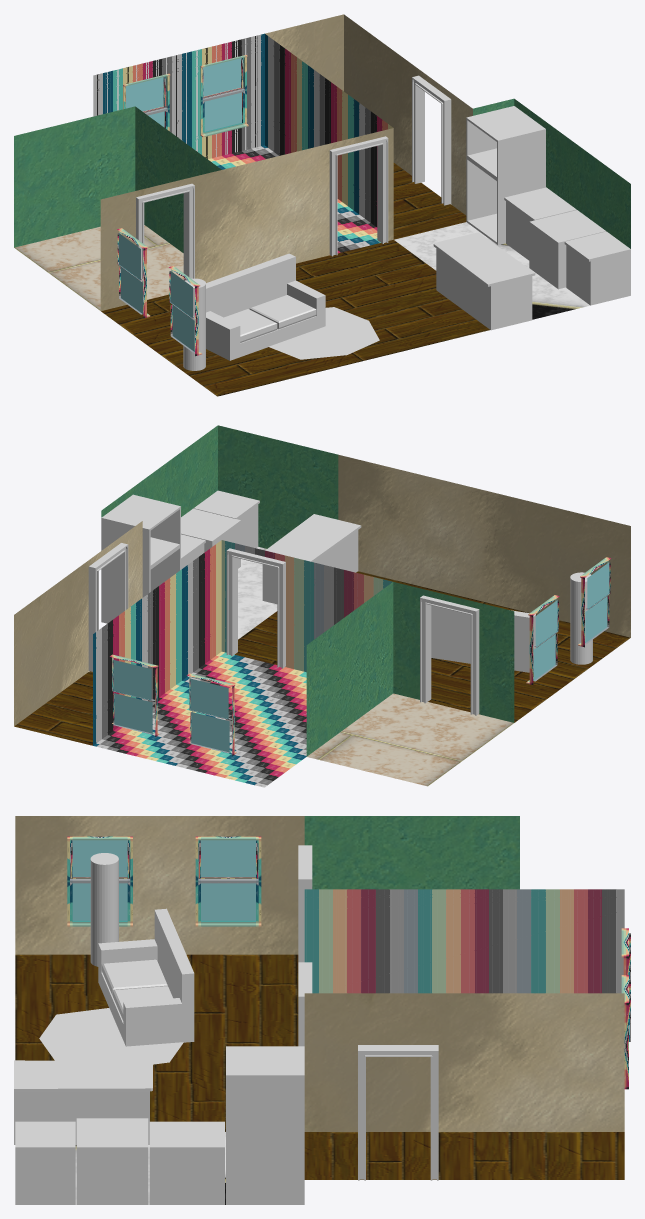
File: Apartment.glb
3 renders of one model, top to bottom at view 1: azimuth 30°, elevation 25°; view 2: azimuth 150°, elevation 25°; view 3: azimuth 270°, elevation 25°, orthographic. The views are drawn at different scales.
Parts seen in each view (by area): view 1: LivingRoom, Bathroom, Bedroom, Hall, Kitchen, Couch, fridge base, Island, right counter, window.004, stove, carpet (+8 smaller); view 2: LivingRoom, Bedroom, Bathroom, Kitchen, Hall, fridge base, Island, Couch, window.003, window.004, door_frame.001, door_frame (+7 smaller); view 3: Hall, LivingRoom, Bedroom, Bathroom, fridge base, Couch, Island, left counter, stove, window.002, right counter, carpet (+6 smaller).
Part boxes in pixels (x1=…): LivingRoom: x1=100, y1=128, x2=489, y2=396; Bathroom: x1=14, y1=106, x2=221, y2=310; Bedroom: x1=93, y1=33, x2=393, y2=253; Hall: x1=265, y1=14, x2=472, y2=239; Kitchen: x1=394, y1=98, x2=630, y2=319; Couch: x1=206, y1=253, x2=325, y2=360; fridge base: x1=466, y1=106, x2=545, y2=245; Island: x1=433, y1=232, x2=535, y2=330; right counter: x1=564, y1=231, x2=630, y2=305; window.004: x1=200, y1=55, x2=248, y2=137; stove: x1=529, y1=210, x2=606, y2=289; carpet: x1=268, y1=307, x2=379, y2=359; LivingRoom: x1=235, y1=454, x2=630, y2=722; Bedroom: x1=93, y1=540, x2=392, y2=787; Bathroom: x1=306, y1=582, x2=514, y2=786; Kitchen: x1=101, y1=425, x2=338, y2=639; Hall: x1=14, y1=521, x2=142, y2=745; fridge base: x1=101, y1=494, x2=180, y2=623; Island: x1=262, y1=514, x2=361, y2=604; Couch: x1=431, y1=605, x2=536, y2=672; window.003: x1=187, y1=673, x2=236, y2=755; window.004: x1=110, y1=654, x2=159, y2=737; door_frame.001: x1=420, y1=595, x2=479, y2=715; door_frame: x1=226, y1=548, x2=285, y2=668; Hall: x1=304, y1=993, x2=624, y2=1179; LivingRoom: x1=15, y1=816, x2=304, y2=1131; Bedroom: x1=304, y1=889, x2=624, y2=993; Bathroom: x1=304, y1=816, x2=519, y2=889; fridge base: x1=226, y1=1046, x2=304, y2=1204; Couch: x1=98, y1=908, x2=194, y2=1046; Island: x1=14, y1=1060, x2=152, y2=1144; left counter: x1=149, y1=1121, x2=224, y2=1204; stove: x1=76, y1=1118, x2=148, y2=1204; window.002: x1=195, y1=836, x2=261, y2=926; right counter: x1=15, y1=1121, x2=75, y2=1204; carpet: x1=39, y1=1008, x2=183, y2=1064.
Size of the model in its own units: 10.52 by 2.7 by 10.89.
Materials: 7 (6 with a texture image).
